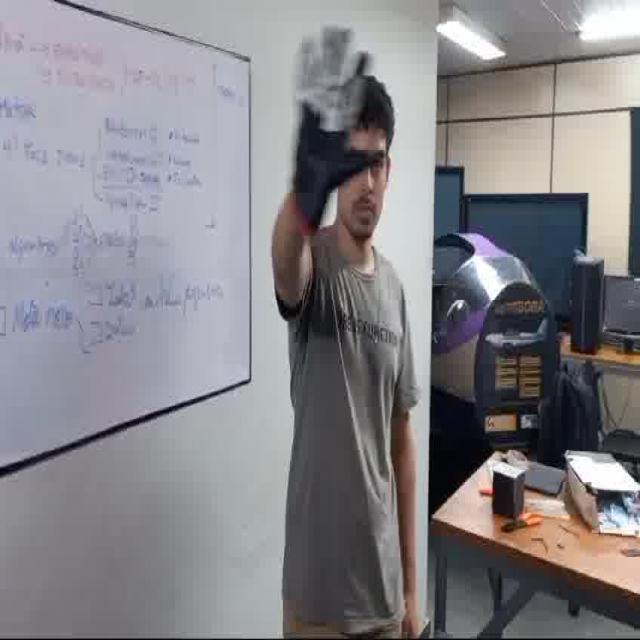Gloves: (277, 28, 383, 220)
